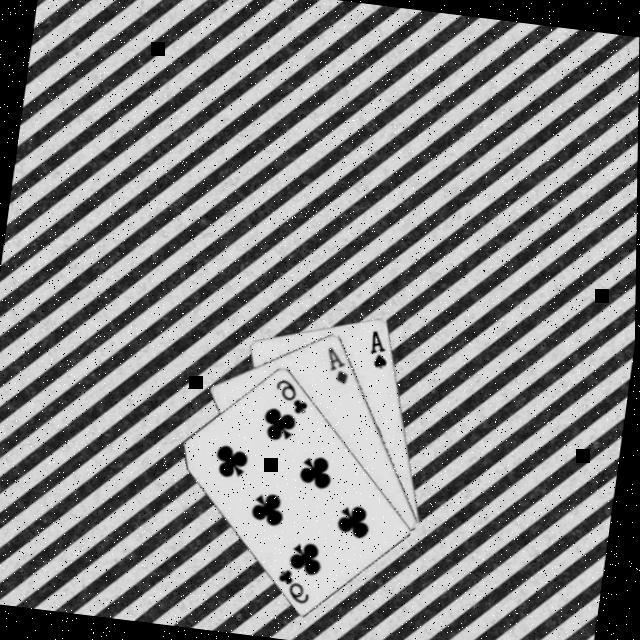6C: (272, 374, 316, 417), (274, 563, 318, 606)
AD: (323, 342, 358, 387)
AS: (367, 325, 397, 371)
